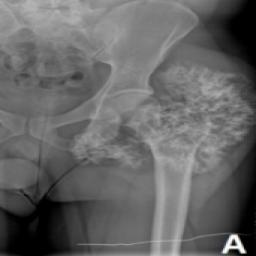cancer: (71, 61, 256, 171)
